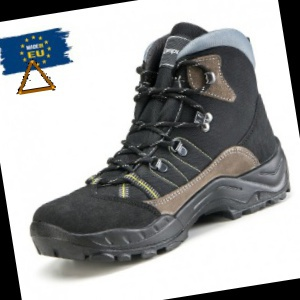triangle: (13, 58, 58, 97)
